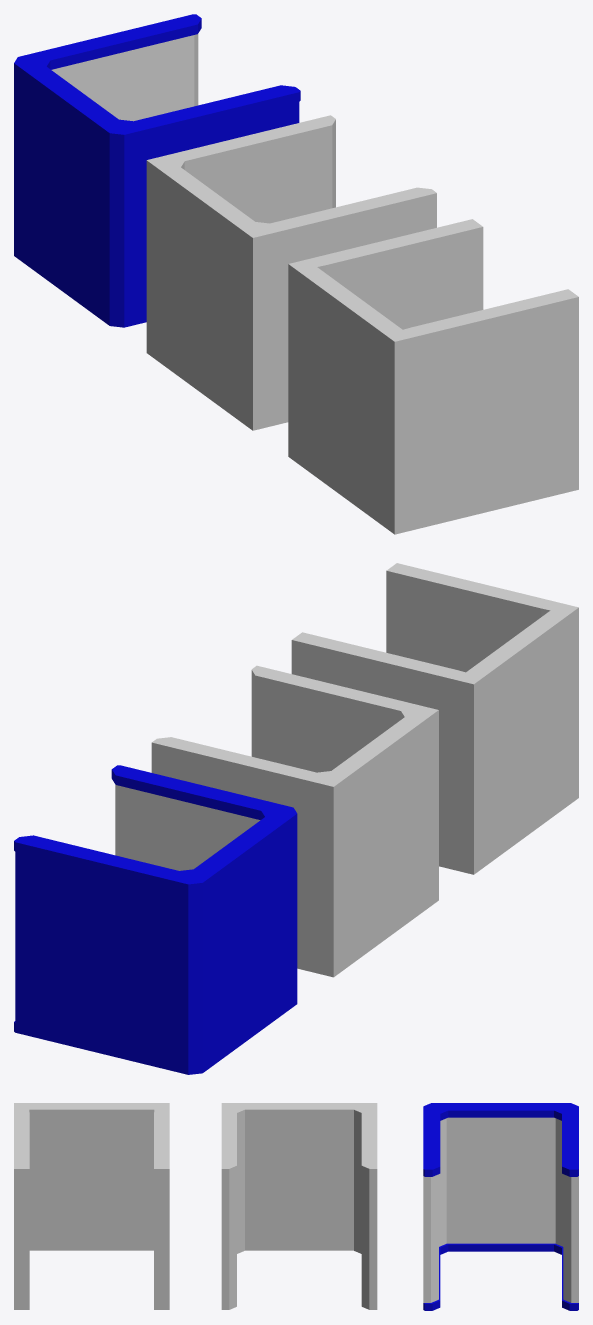
The model's file is CubicleBorders.fbx.
3 renders of one model, top to bottom at view 1: azimuth 30°, elevation 25°; view 2: azimuth 150°, elevation 25°; view 3: azimuth 270°, elevation 25°, orthographic. The views are drawn at different scales.
Parts seen in each view (by area): view 1: MinimalCubicle, NormalCubicle, FancyCubicle; view 2: FancyCubicle, MinimalCubicle, NormalCubicle; view 3: FancyCubicle, NormalCubicle, MinimalCubicle.
Part boxes in pixels (x1,y1,x2,y2): MinimalCubicle: (288, 219, 578, 534); NormalCubicle: (146, 115, 436, 430); FancyCubicle: (14, 14, 300, 327); FancyCubicle: (14, 765, 297, 1074); MinimalCubicle: (291, 563, 578, 874); NormalCubicle: (151, 665, 438, 977); FancyCubicle: (423, 1103, 578, 1310); NormalCubicle: (221, 1103, 377, 1309); MinimalCubicle: (14, 1103, 169, 1309).
Bounding box in the file's own units: 608 × 600 × 2178.
